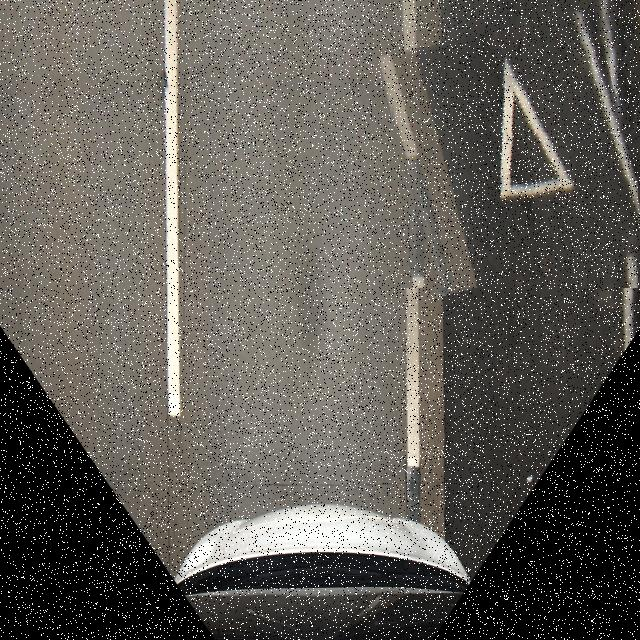yangbo: (390, 18, 638, 288)
